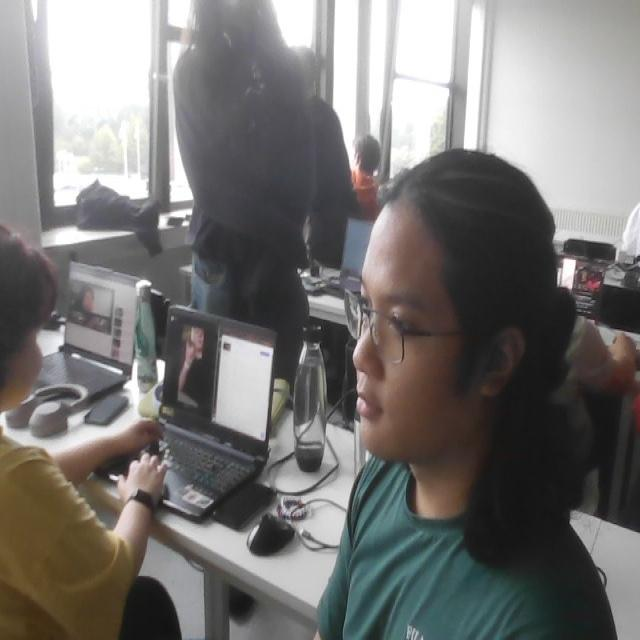opened_eye: (387, 308, 427, 341), (356, 290, 374, 319)
